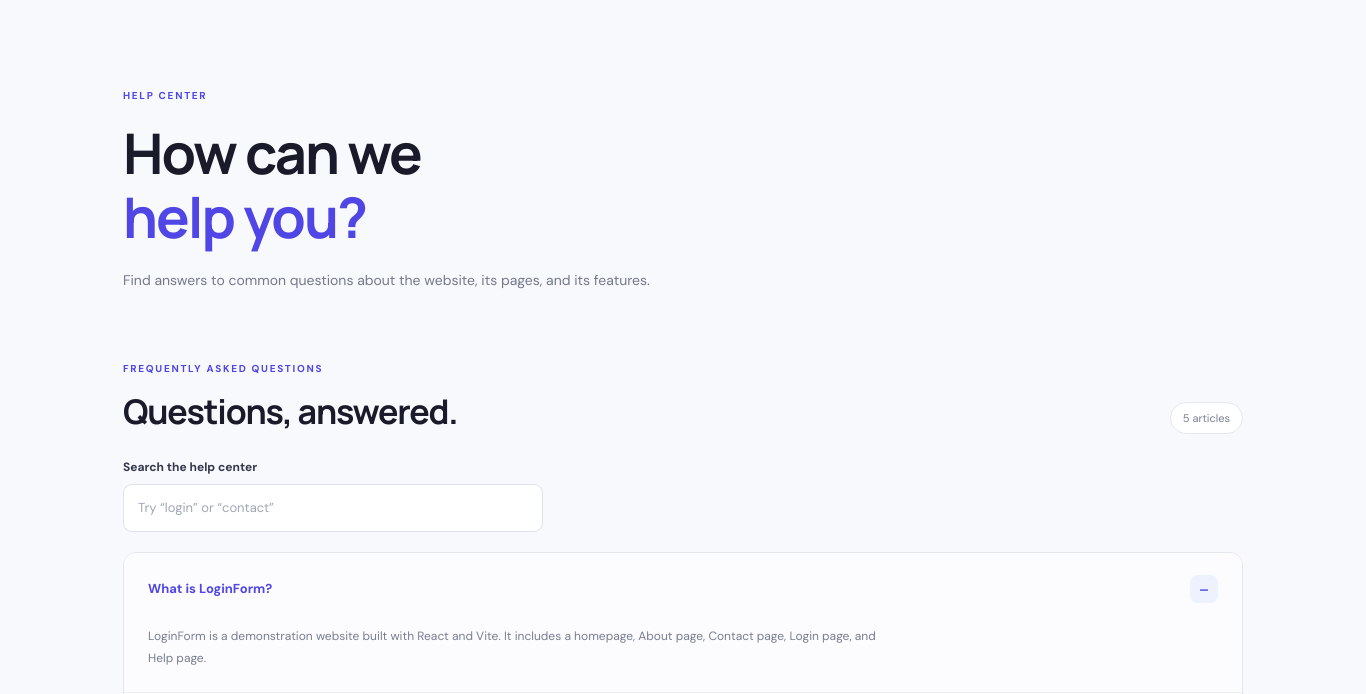
Test: Help page › filters the questions by search text
Type "authenticate" into the search field labelled "Search the help center".
click(333, 508); type("authenticate")  # box [123,484,543,532]
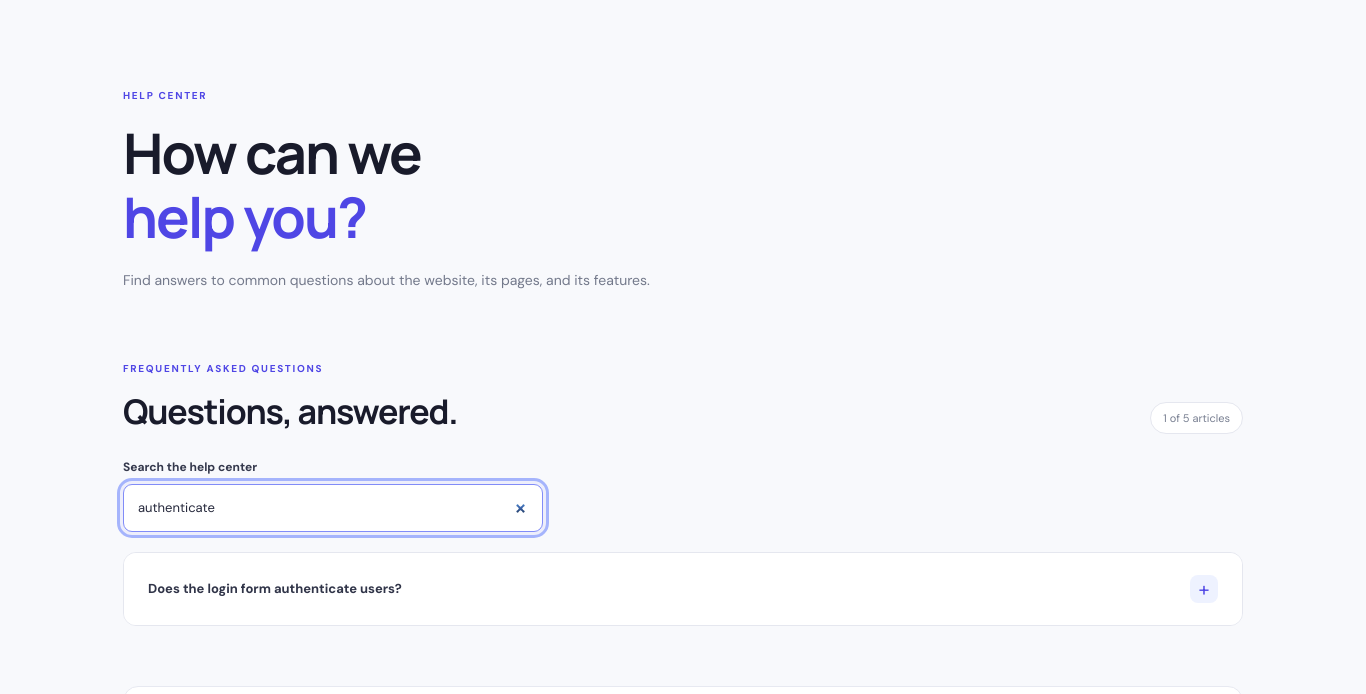
Expected: the button "Does the login form authenticate users? +" is shown, [124,553,1242,625]
Now the button "What is LoginForm" is gone
Now the text "1 of 5 articles" is shown, box [1150,402,1243,434]
